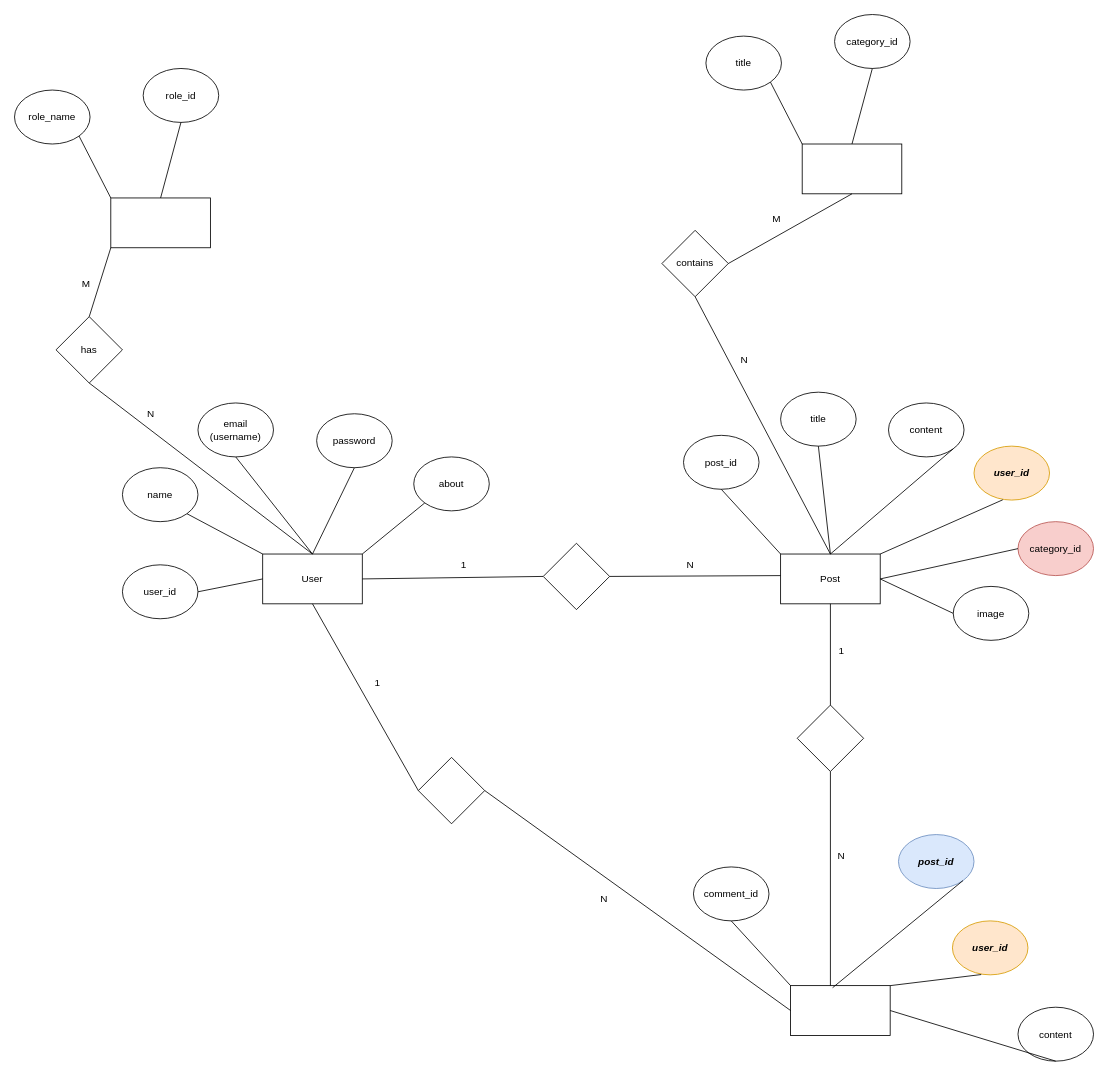
Some shapes in this 1108 by 1077 pixel diagram are drawn without their labels. The centre of each missing label's shape, as x and y in pixels:
"can create" belongs at (x=576, y=576).
"Category" belongs at (x=851, y=168).
"Comment" belongs at (x=840, y=1010).
"have" belongs at (x=830, y=737).
"make" belongs at (x=451, y=790).
"Role" belongs at (x=160, y=222).
